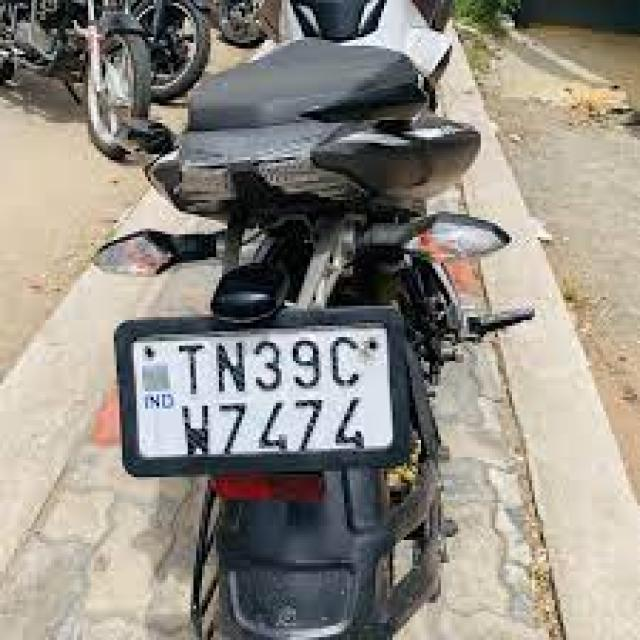license_plate: (111, 309, 410, 474)
